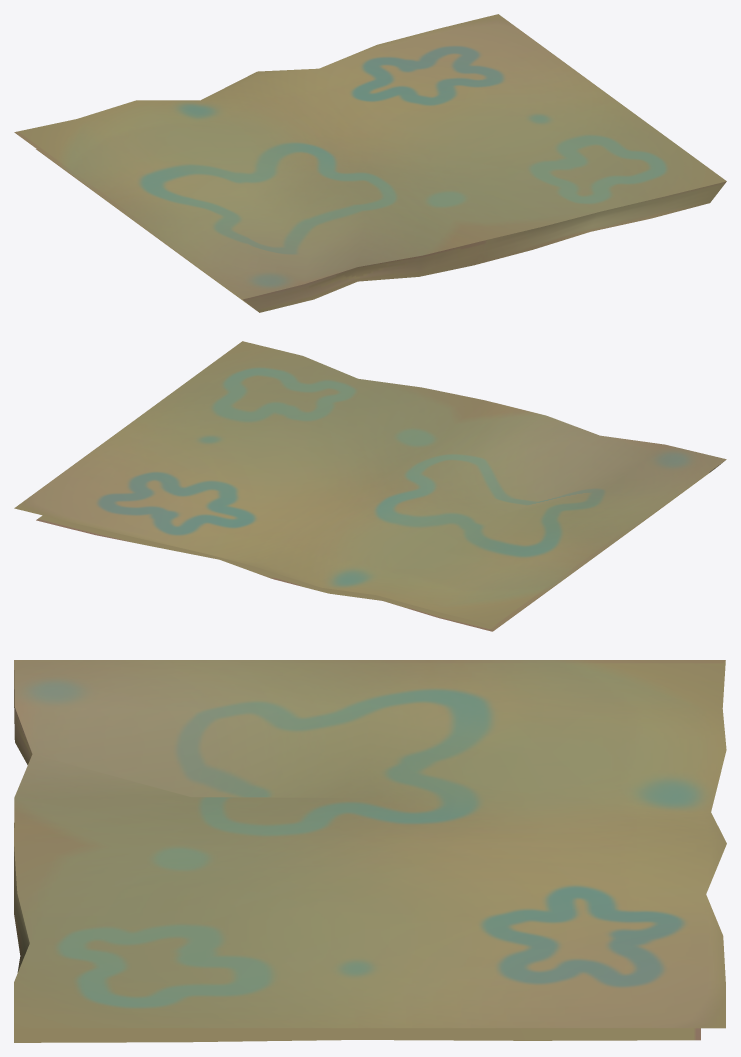
File: box-right2-top.fbx
The picture shows the model from 3 angles, top to bottom: view 1: azimuth 30°, elevation 25°; view 2: azimuth 150°, elevation 25°; view 3: azimuth 270°, elevation 25°; orthographic projection. The views are drawn at different scales.
Visible parts, largest first — view 1: box-right2-top; view 2: box-right2-top; view 3: box-right2-top.
Boxes of the visible parts, <box> form: box-right2-top: <box>14,14,726,312</box>; box-right2-top: <box>14,341,726,631</box>; box-right2-top: <box>14,660,726,1042</box>.
Size of the model in its own units: 203 by 14.34 by 166.
